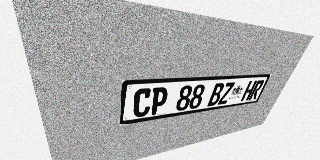8: (175, 85, 194, 111), (188, 84, 207, 109)
B: (207, 83, 225, 106)
C: (132, 88, 153, 118)
H: (240, 80, 257, 101)
P: (149, 87, 169, 115)
R: (248, 80, 265, 100)
Z: (217, 82, 235, 105)
